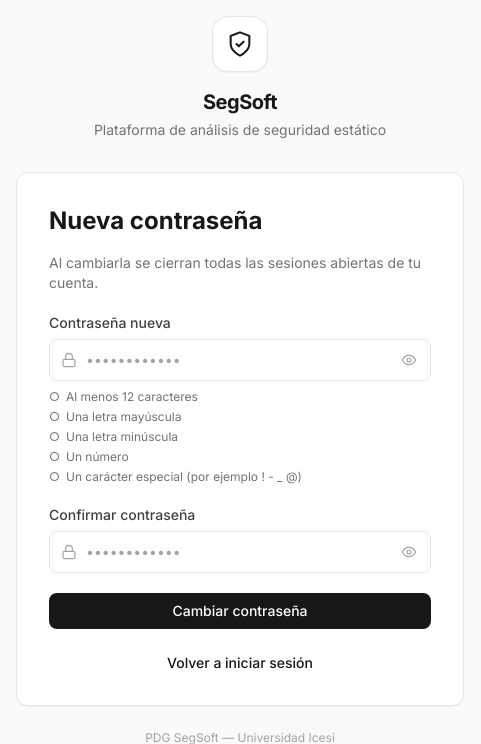
Test: ResetPassword › sends the token with the new password and then points to the login
Type "Clave-Recuperada-2026!" into the password field labelled "Contraseña nueva" at (240, 360), box x1=49 y1=339 x2=431 y2=381
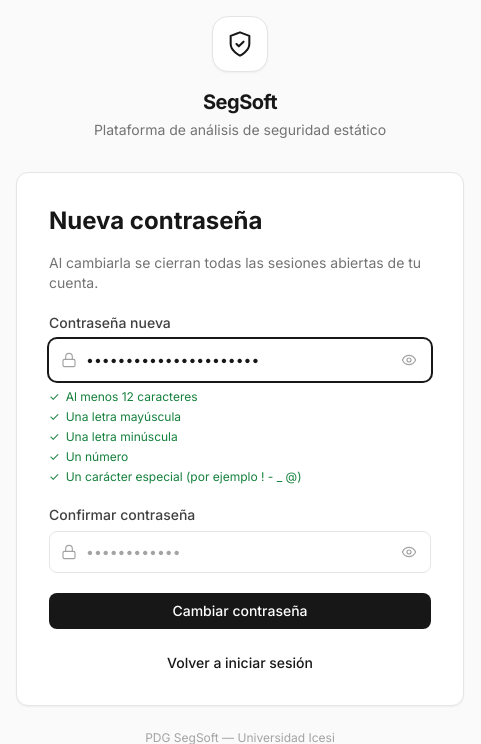
Type "Clave-Recuperada-2026!" into the password field labelled "Confirmar contraseña" at (240, 552), box x1=49 y1=531 x2=431 y2=573
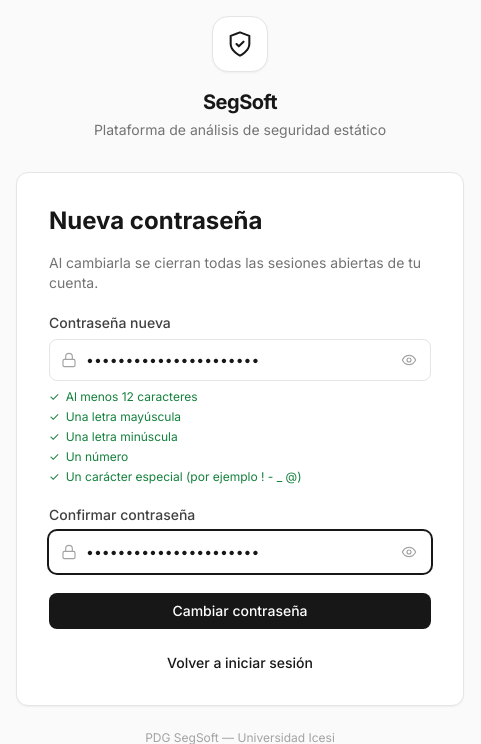
Click the button "Cambiar contraseña" at (240, 611), box x1=49 y1=593 x2=431 y2=629
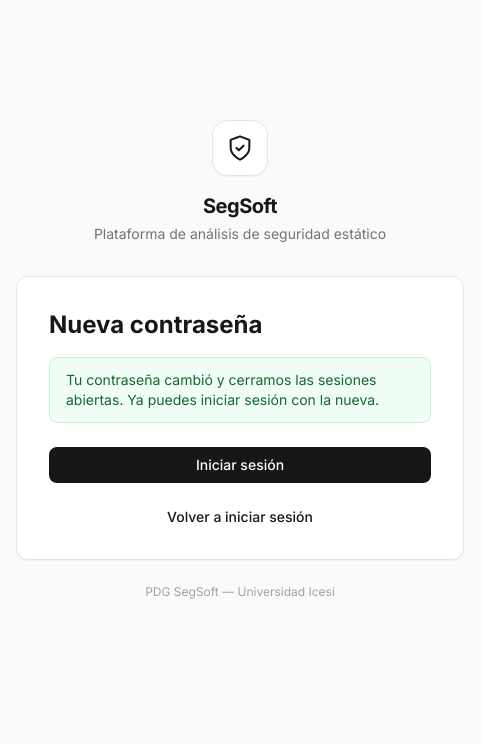
Expected: the message shows "Tu contraseña cambió y cerramos las sesiones abiertas. Ya puedes iniciar sesión con la nueva.", x1=66 y1=371 x2=379 y2=408
